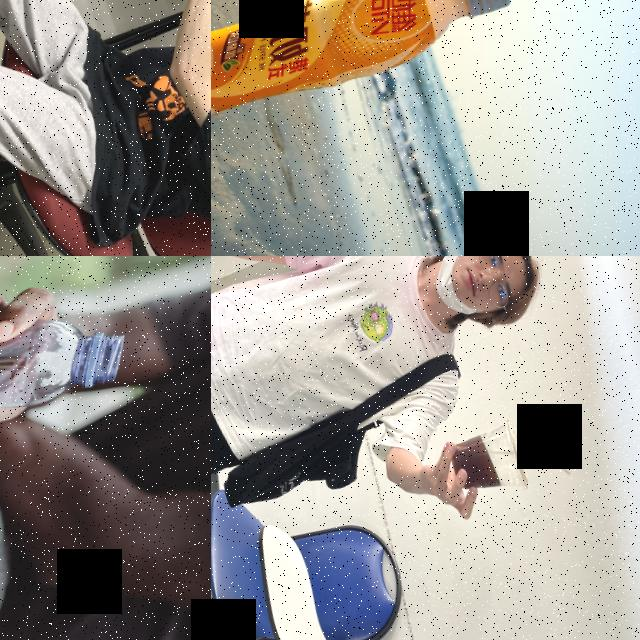bottle: (211, 0, 523, 170), (0, 256, 136, 489)
cup: (442, 416, 534, 510)
